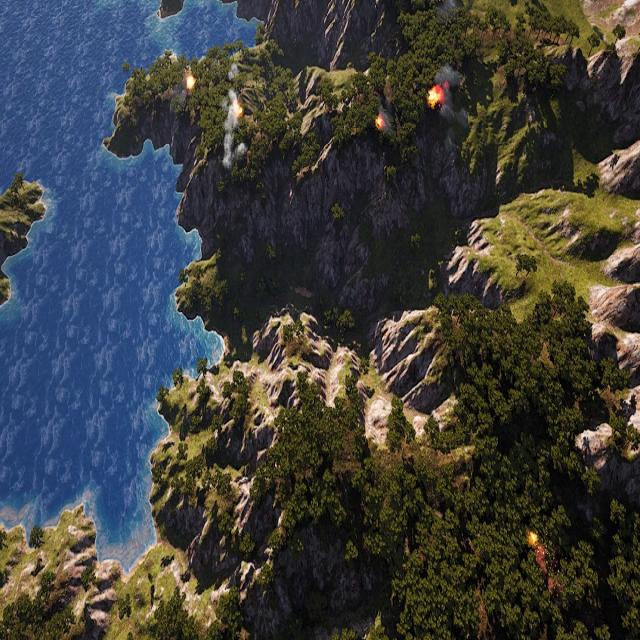fire: (426, 86, 444, 109), (374, 118, 385, 133), (233, 102, 243, 118), (528, 532, 538, 546), (187, 76, 195, 90)
smoke: (217, 67, 244, 175), (428, 61, 466, 128)
